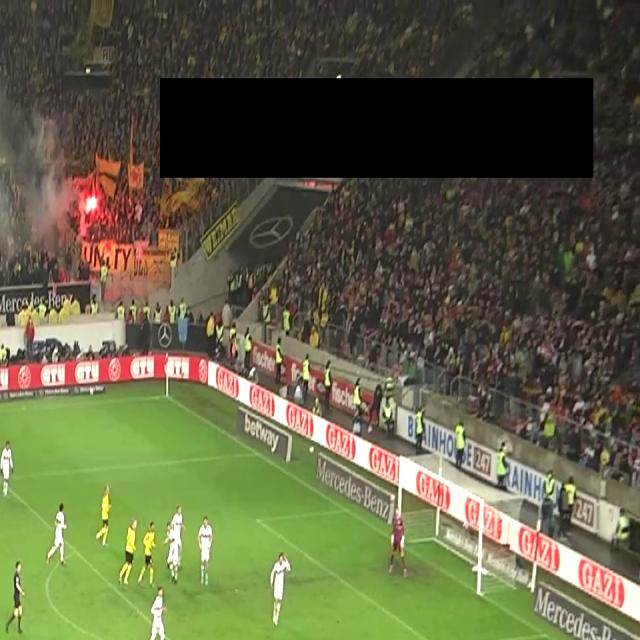goalkeeper: (382, 496, 420, 582)
referee: (0, 558, 33, 640)
soccer-player: (261, 550, 300, 635), (191, 511, 222, 594), (44, 502, 77, 572), (134, 585, 173, 640), (92, 481, 117, 551), (0, 438, 21, 503)
